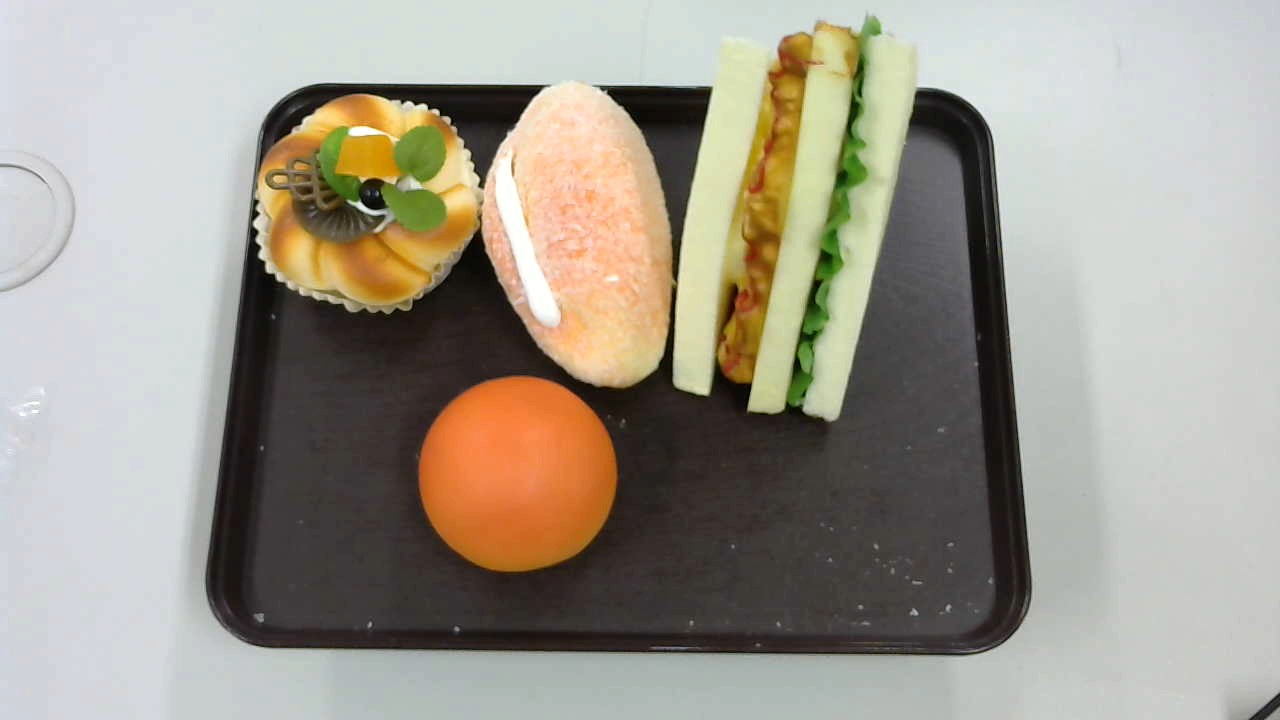bun: (417, 375, 617, 572)
coconut: (481, 83, 671, 388)
fruit tart: (254, 92, 483, 314)
sandwich: (674, 11, 918, 424)
